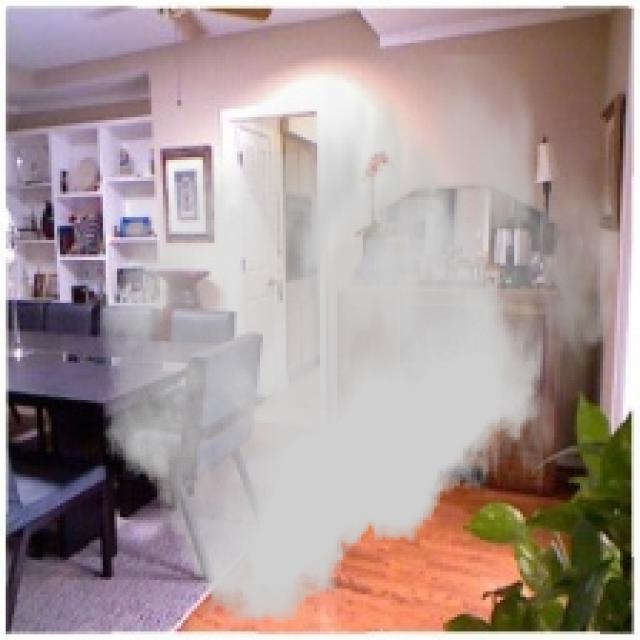Smoke: (97, 54, 617, 623)
